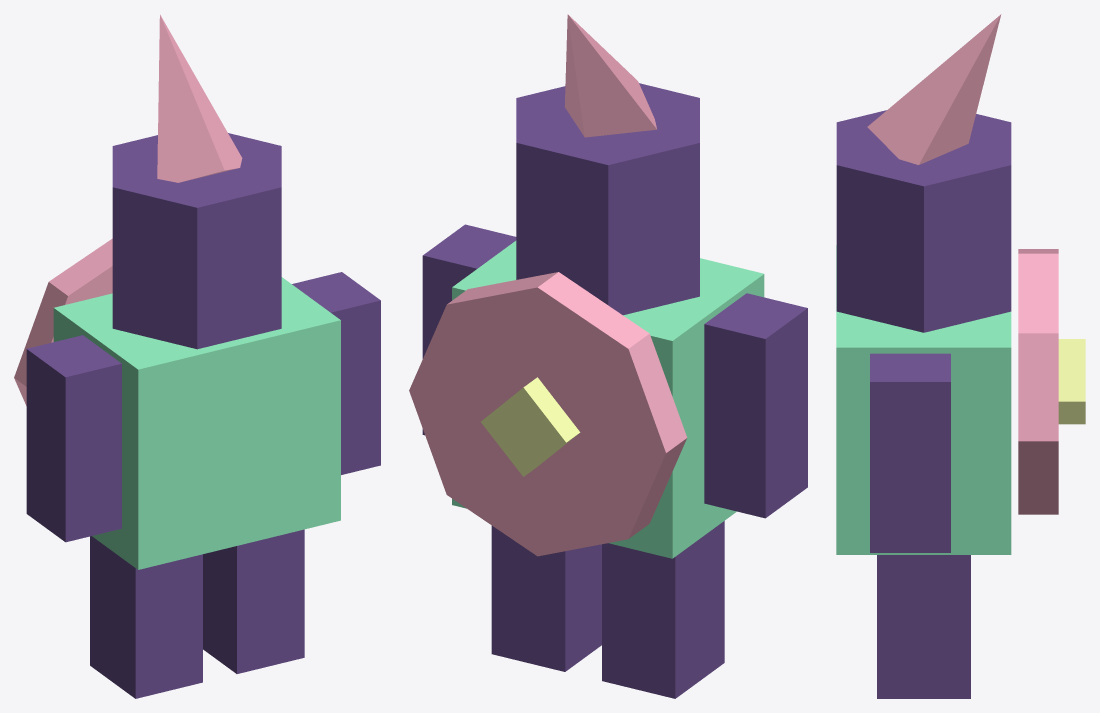
File: knight.glb
3 renders of one model, left to right at view 1: azimuth 30°, elevation 25°; view 2: azimuth 150°, elevation 25°; view 3: azimuth 270°, elevation 25°, orthographic. The views are drawn at different scales.
Visible parts, largest first — view 1: Body, Helm, ArmL, LegL, LegR, ArmR, Plume, Shield; view 2: Shield, Helm, ArmL, LegL, Body, LegR, Plume, BossK, ArmR; view 3: Helm, Body, ArmR, LegR, Shield, Plume, BossK.
Boxes of the visible parts, box(x1,y1,x2,y2) form: Body: box(53, 277, 340, 569); Helm: box(112, 133, 281, 349); ArmL: box(26, 335, 121, 542); LegL: box(90, 536, 202, 698); LegR: box(203, 529, 304, 673); ArmR: box(292, 272, 380, 474); Plume: box(157, 14, 242, 182); Shield: box(14, 238, 112, 405); Shield: box(409, 272, 687, 556); Helm: box(516, 83, 699, 315); ArmL: box(704, 293, 807, 518); LegL: box(602, 521, 724, 698); Body: box(452, 240, 764, 558); LegR: box(491, 525, 601, 671); Plume: box(564, 14, 656, 137); BossK: box(481, 377, 580, 476); ArmR: box(422, 224, 516, 435); Helm: box(836, 110, 1011, 332); Body: box(836, 245, 1011, 554); ArmR: box(870, 353, 950, 552); LegR: box(877, 555, 970, 698); Shield: box(1018, 249, 1058, 514); Plume: box(867, 14, 1001, 164); BossK: box(1058, 339, 1085, 424).
Bounding box in the file's own units: 0.56 × 1.05 × 0.37.
